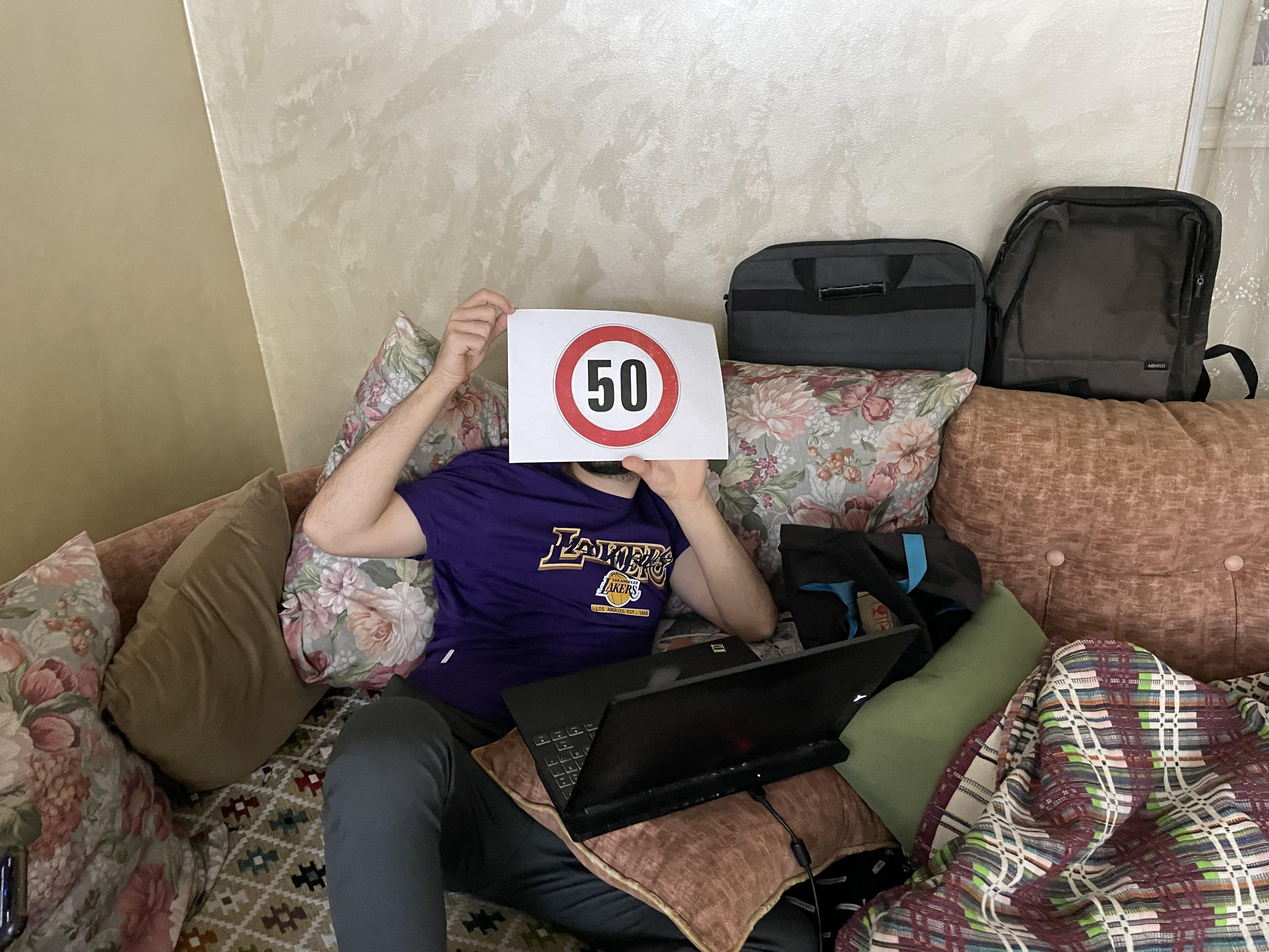50-Speed: (551, 321, 686, 448)
